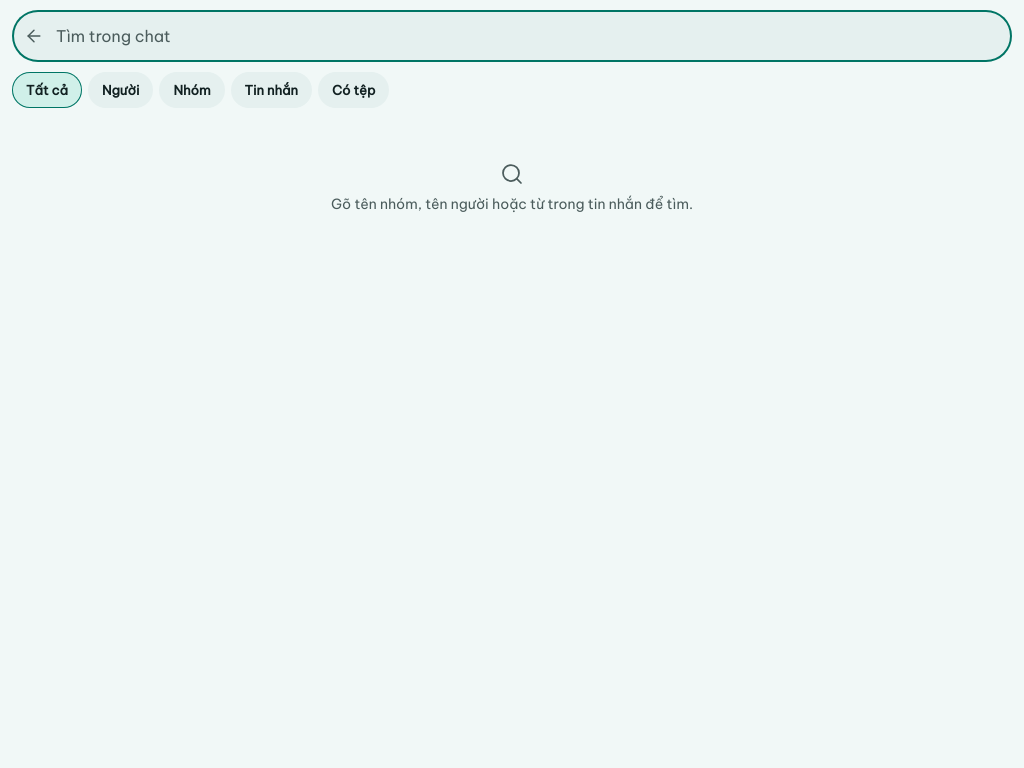
Test: messages › says when nothing is found, and suggests accents for a search written without them
This screenshot has width=1024, height=768.
Type "khong co gi" into the search field labelled "Tìm trong chat". click: (530, 36)
box: [56,14,1004,58]
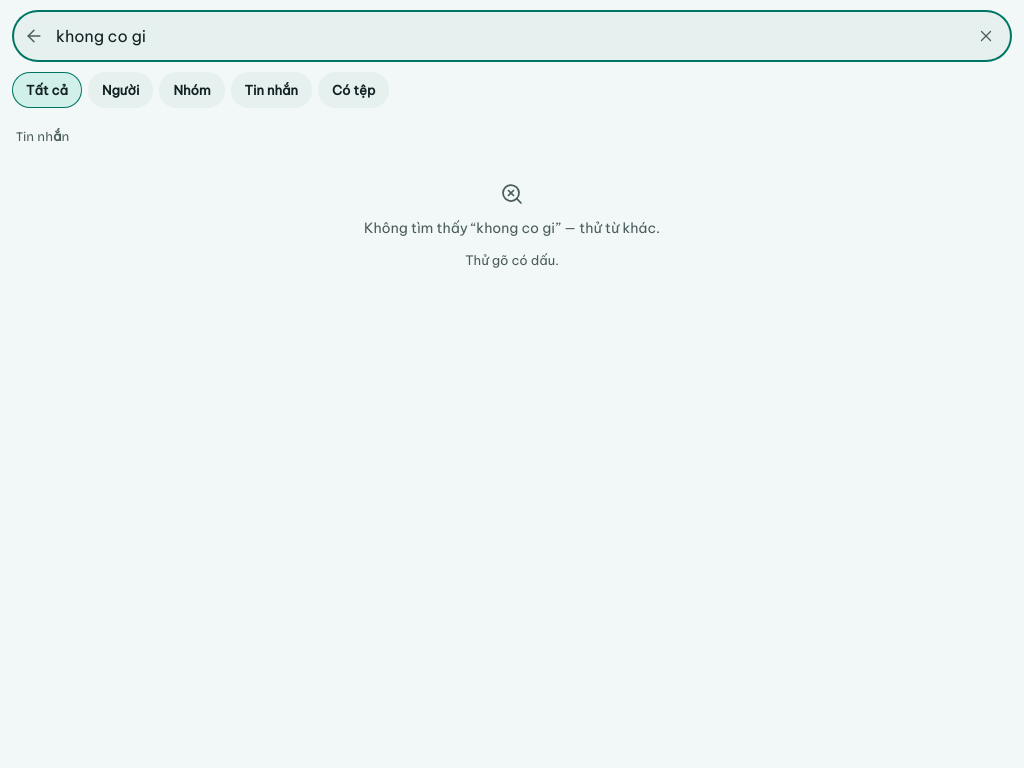
Check: the text "Không tìm thấy “khong co gi” — thử từ khác." is shown, box [364,218,660,239]
Check: the text "Thử gõ có dấu." is shown, box [465,251,559,269]
Clear the search field named "Tìm trong chat". click: (510, 36)
box: [56,14,964,58]
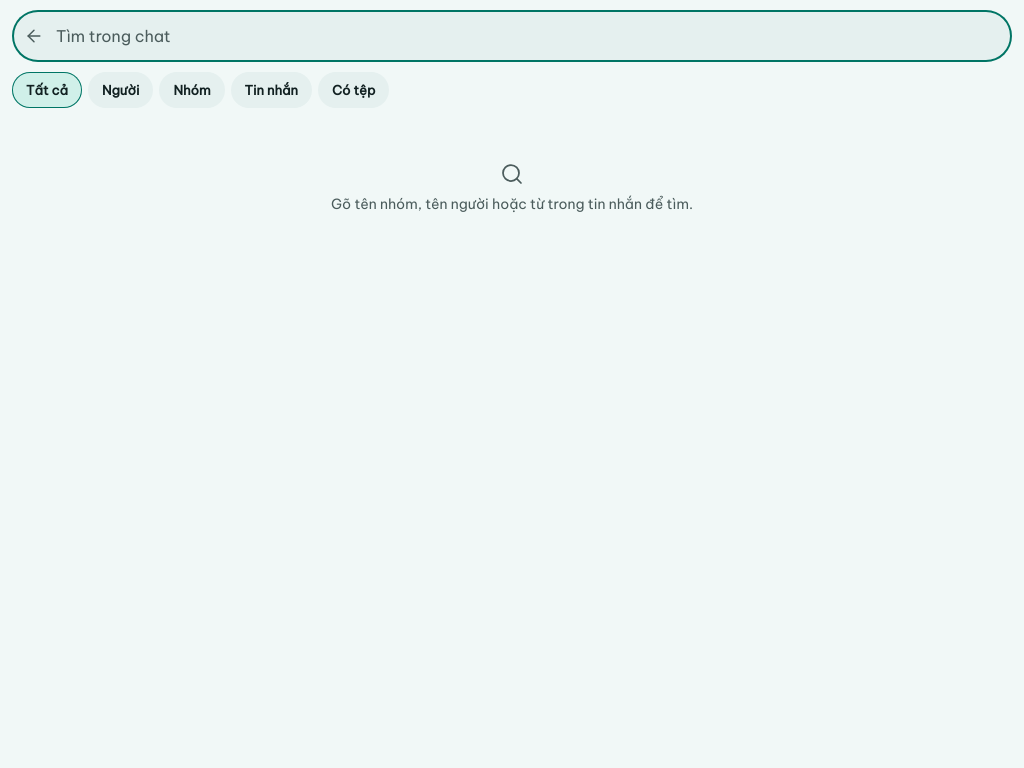
Type "không có gì" into the search field labelled "Tìm trong chat". click: (530, 36)
box: [56,14,1004,58]
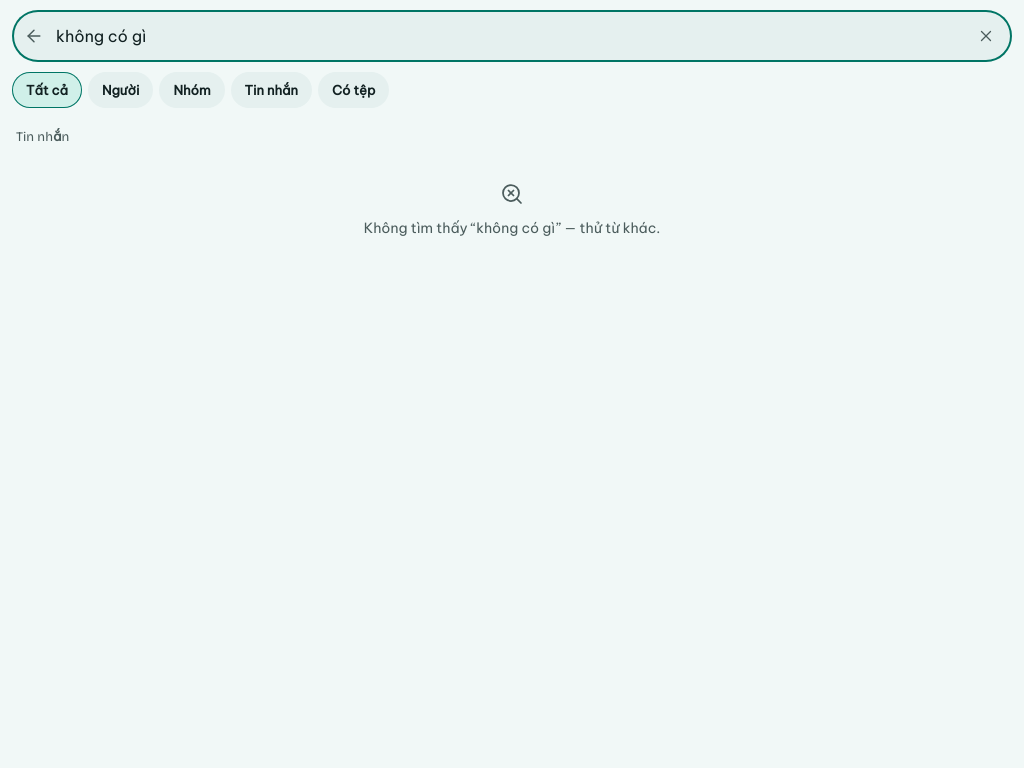
Check: the text "Thử gõ có dấu." is not shown
Check: the text "Không tìm thấy “không có gì” — thử từ khác." is shown, box [364,218,660,239]
